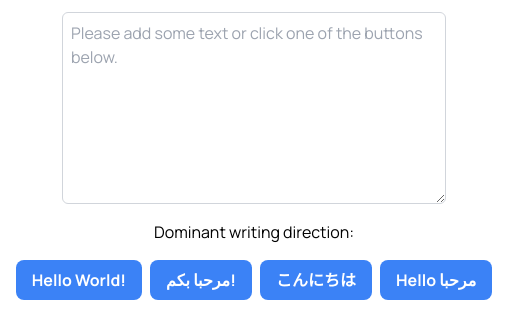
Test: JTextAnalyzer component › displays dominant writing direction message
This screenshot has width=509, height=317.
Type "مرحبا بكم!" into the text box with placeholder "Please add some text or click one of the buttons below." at (254, 108), box [62,12,446,204]
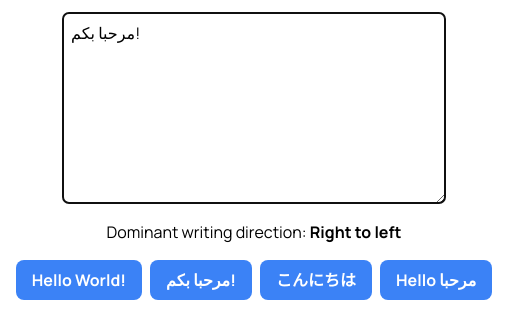
Now the text "Dominant writing direction:" shows "Right to left", box [310,221,402,243]
Replace the text in the text box with placeholder "Please add some text or click one of the buttons below." with "Hello World!" at (254, 108), box [62,12,446,204]
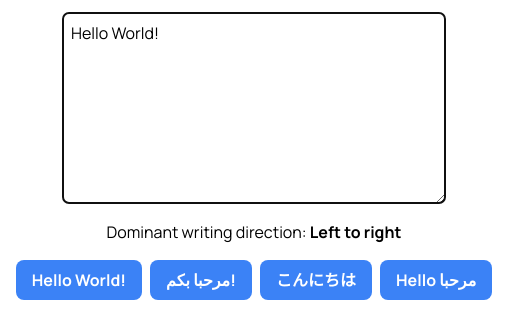
Now the text "Dominant writing direction:" shows "Left to right", box [310,221,401,243]
Replace the text in the text box with placeholder "Please add some text or click one of the buttons below." with "こんにちは" at (254, 108), box [62,12,446,204]
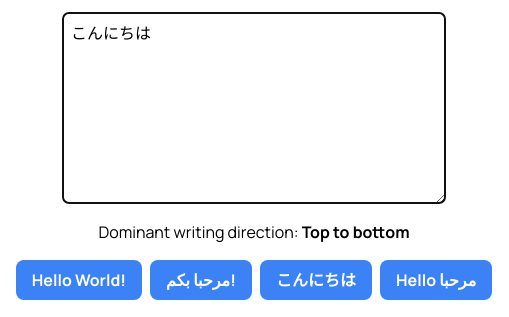
Now the text "Dominant writing direction:" shows "Top to bottom", box [302,221,410,243]
Replace the text in the text box with placeholder "Please add some text or click one of the buttons below." with "Hello مرحبا" at (254, 108), box [62,12,446,204]
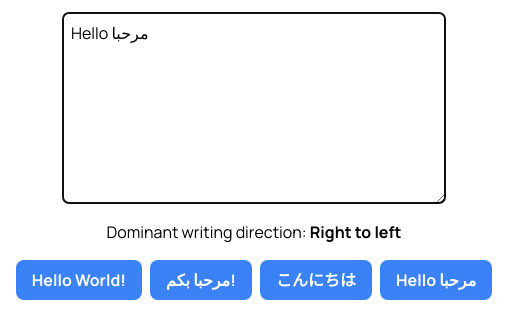
Now the text "Dominant writing direction:" shows "Right to left", box [310,221,402,243]
